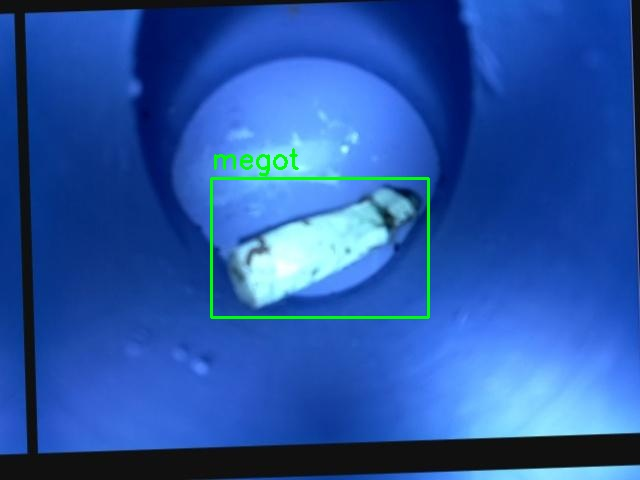megot: (211, 178, 428, 317)
